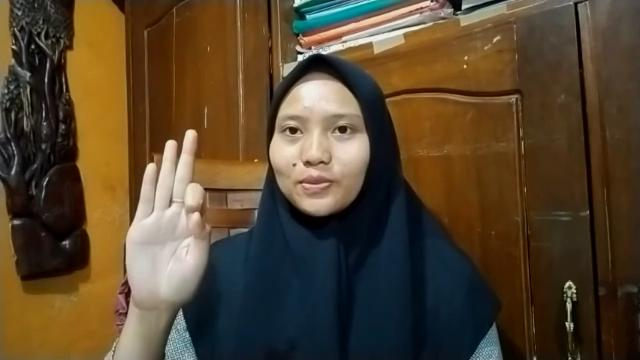F: (125, 127, 215, 304)
